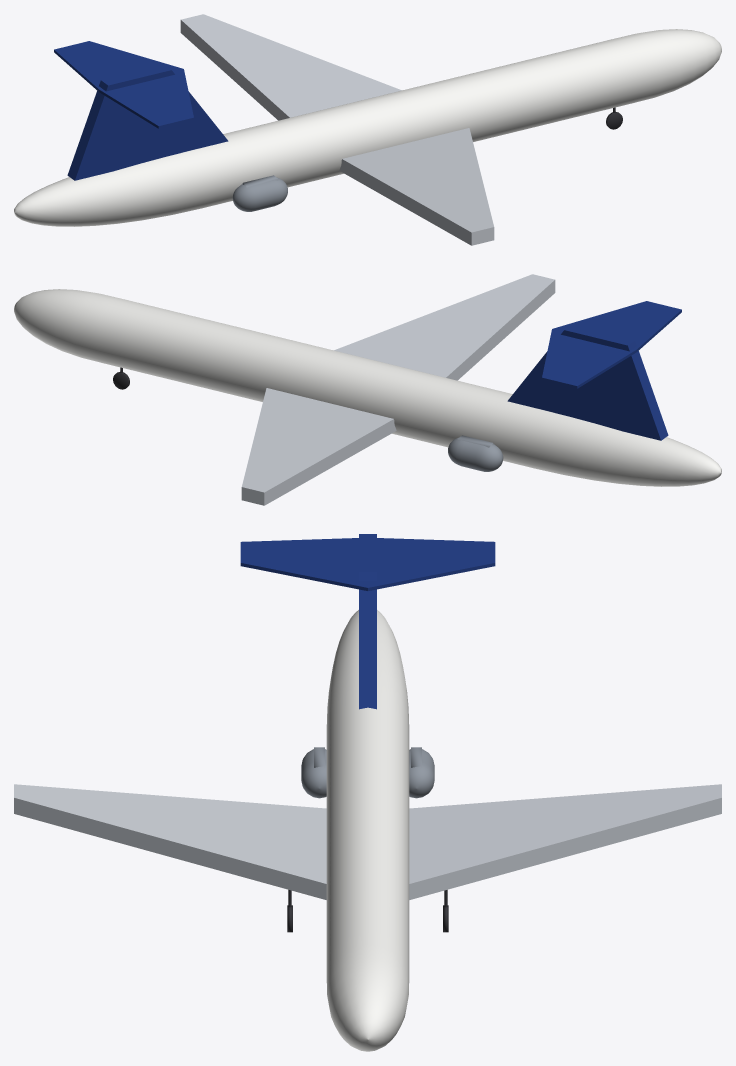
File: crj7.glb
3 renders of one model, top to bottom at view 1: azimuth 30°, elevation 25°; view 2: azimuth 150°, elevation 25°; view 3: azimuth 270°, elevation 25°, orthographic. The views are drawn at different scales.
Parts seen in each view (by area): view 1: fuselage, wings, tail, engines; view 2: fuselage, wings, tail, engines; view 3: wings, fuselage, tail, engines.
Part boxes in pixels (box(x1,y1,x2,y2)): fuselage: box(14, 29, 721, 226); wings: box(180, 14, 494, 245); tail: box(54, 41, 228, 180); engines: box(232, 175, 287, 211); fuselage: box(14, 289, 721, 486); wings: box(241, 274, 555, 505); tail: box(507, 301, 681, 440); engines: box(448, 435, 503, 471); wings: box(14, 784, 721, 899); fuselage: box(326, 610, 409, 1051); tail: box(240, 534, 495, 709); engines: box(301, 747, 434, 798).
Bounding box in the file's own units: 32.5 × 7.49 × 23.2.
